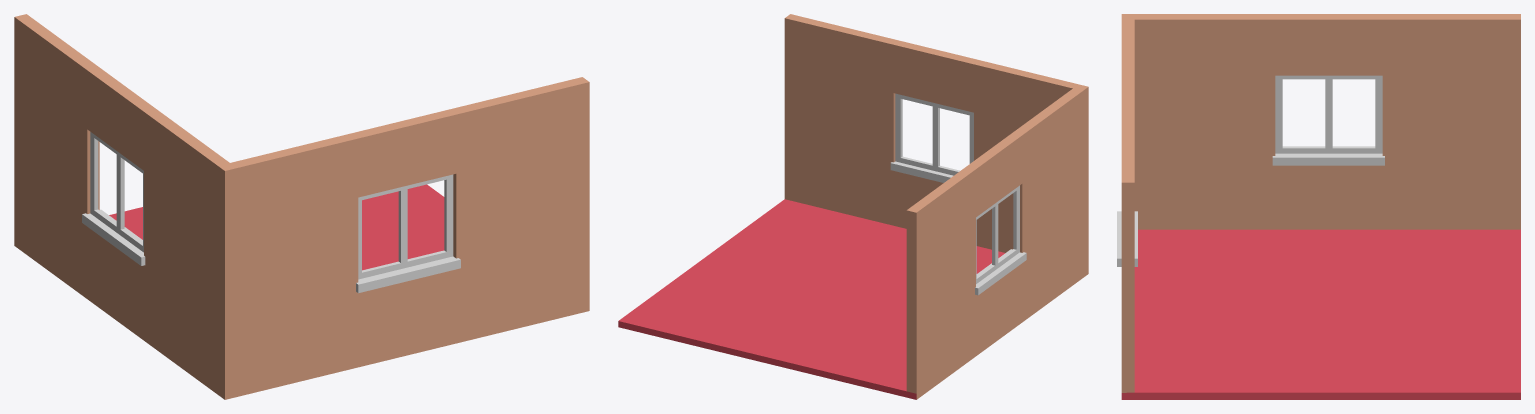
Rendered from window_window.glb.
3 renders of one model, left to right at view 1: azimuth 30°, elevation 25°; view 2: azimuth 150°, elevation 25°; view 3: azimuth 270°, elevation 25°, orthographic. The views are drawn at different scales.
Visible parts, largest first — view 1: Cube.001; view 2: Cube.001; view 3: Cube.001.
Part boxes in pixels (x1,y1,x2,y2): Cube.001: (14,14,589,399); Cube.001: (618,14,1088,399); Cube.001: (1117,14,1520,399).
Bounding box in the file's own units: 9.1 × 5.4 × 9.1.
